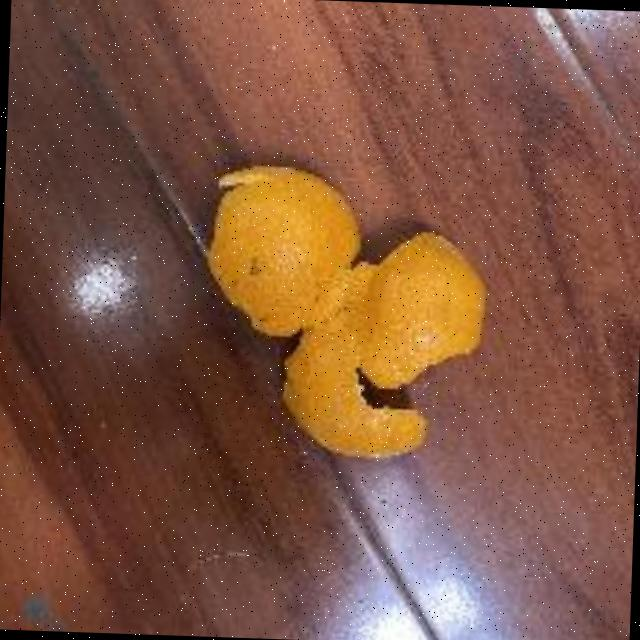orange-peel: (196, 156, 494, 464)
